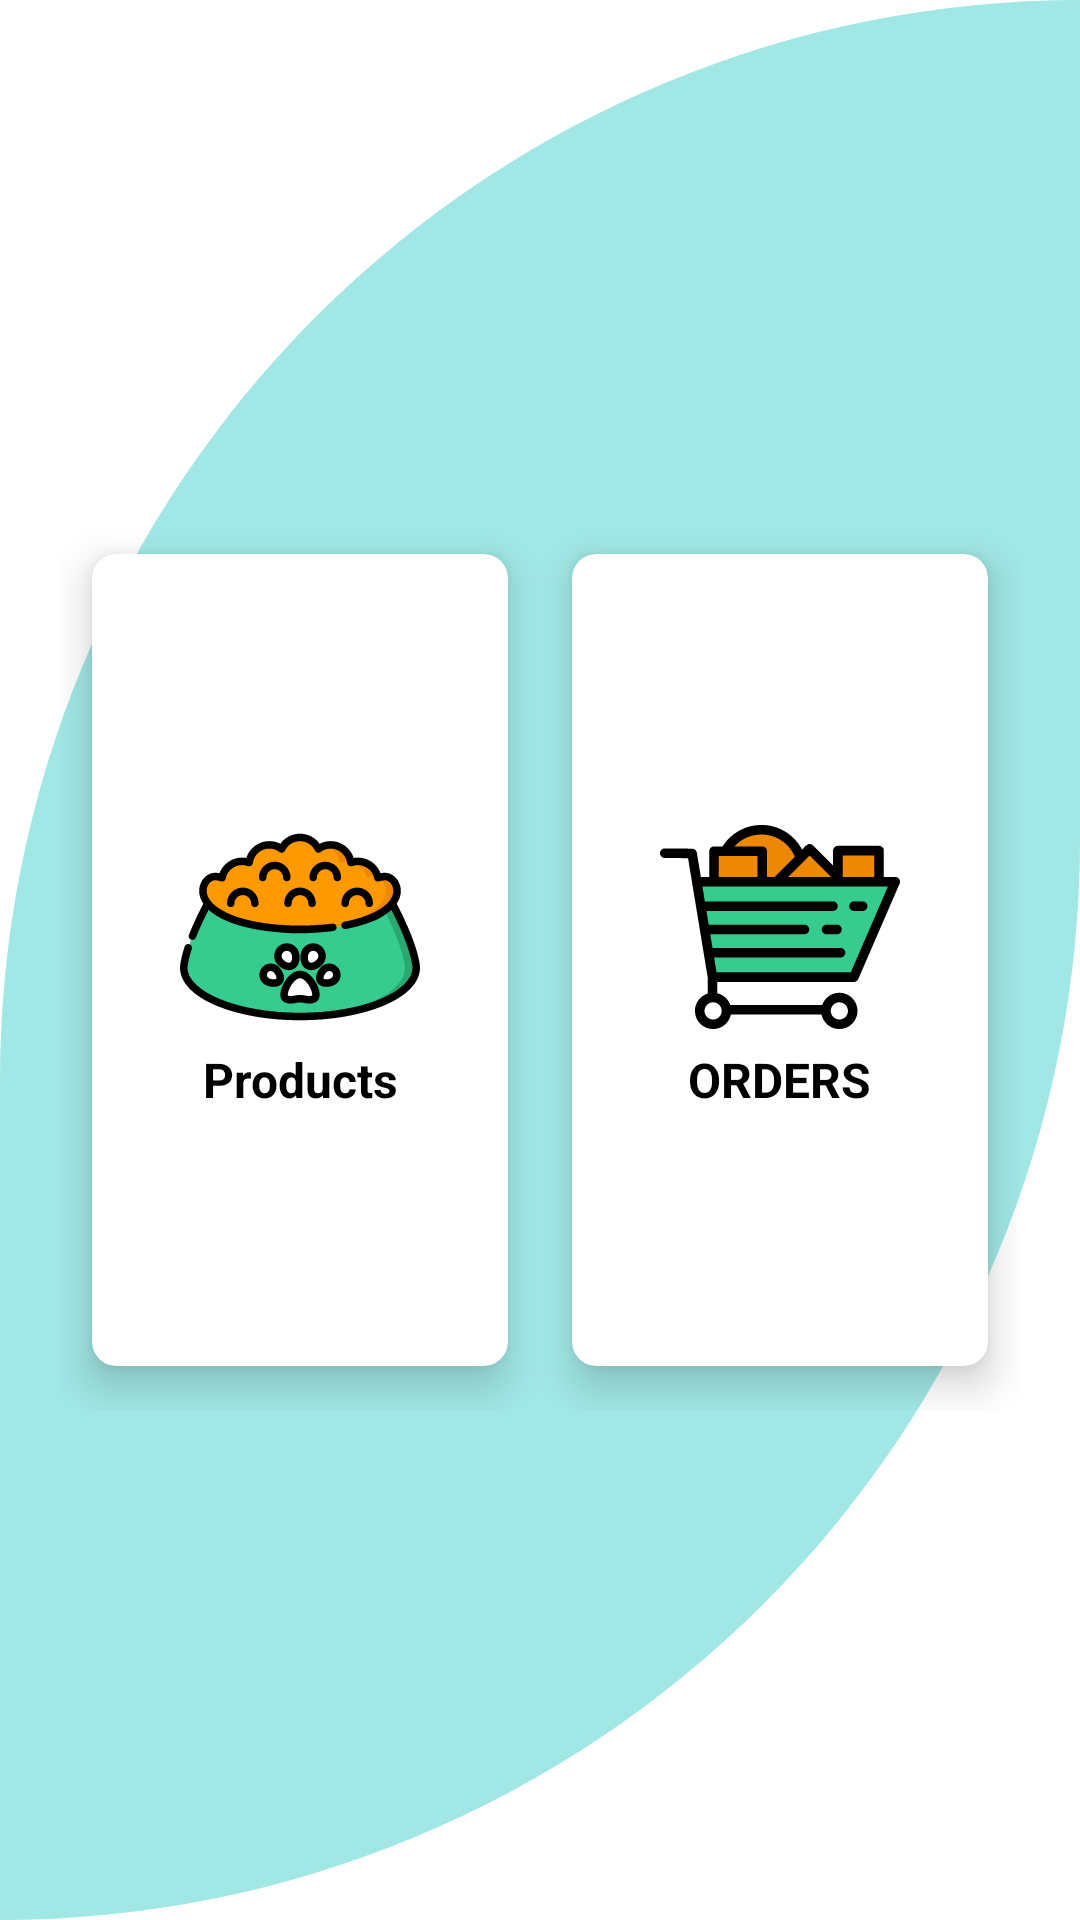

Named icons in this screenshot (1080px×1920px) and their bounding boxes, (x1, y1, x2, y2):
dog food pet: (180, 833, 420, 1021)
shopping cart: (660, 825, 900, 1029)
